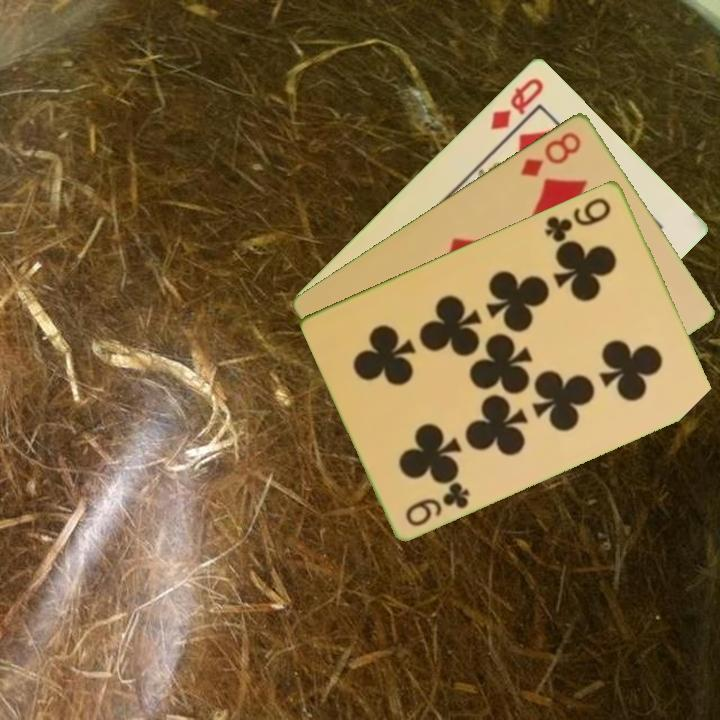8d: (517, 127, 585, 179)
9c: (541, 193, 615, 245), (402, 477, 473, 529)
Qd: (486, 73, 546, 132)
